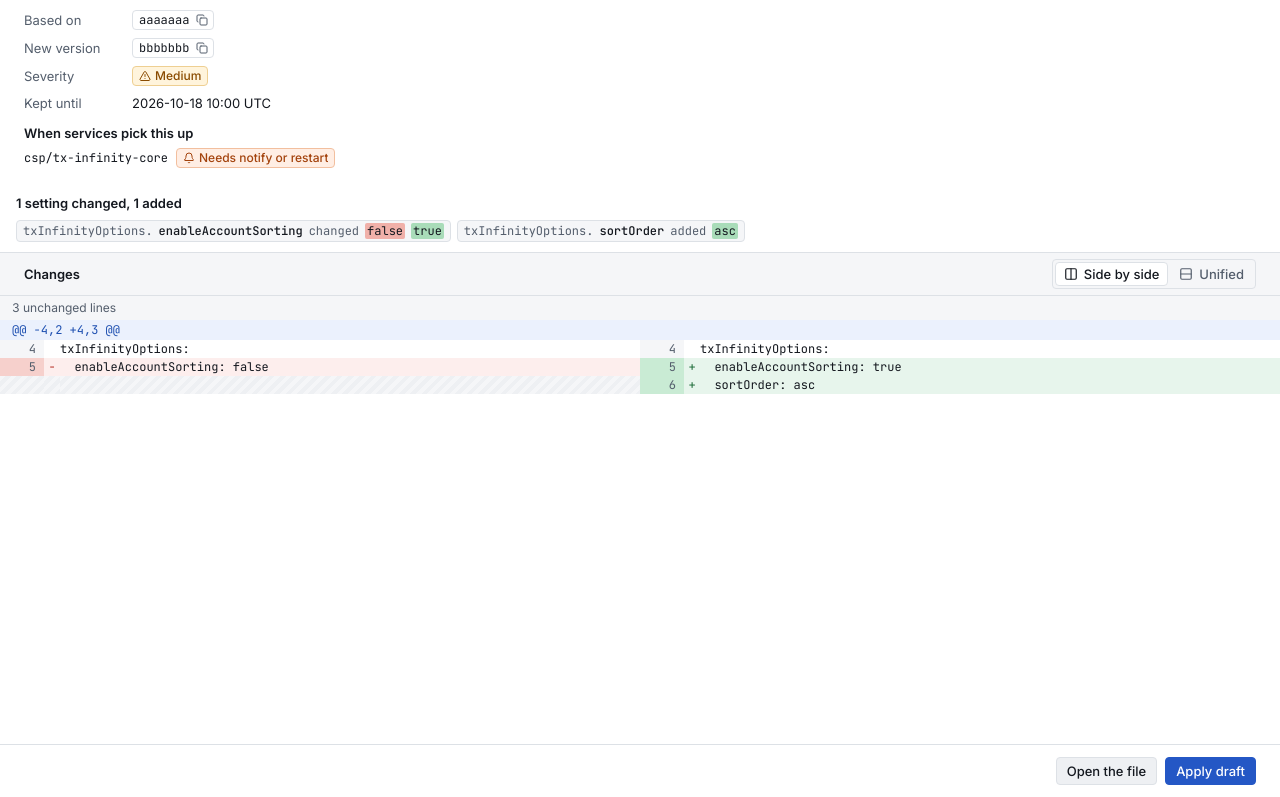
Test case: DraftPage: applying › asks first, with the consequence, and puts focus on Cancel
(page scrolled)
Click the button "Apply draft". click: click(1211, 771)
box: [1165, 757, 1256, 785]
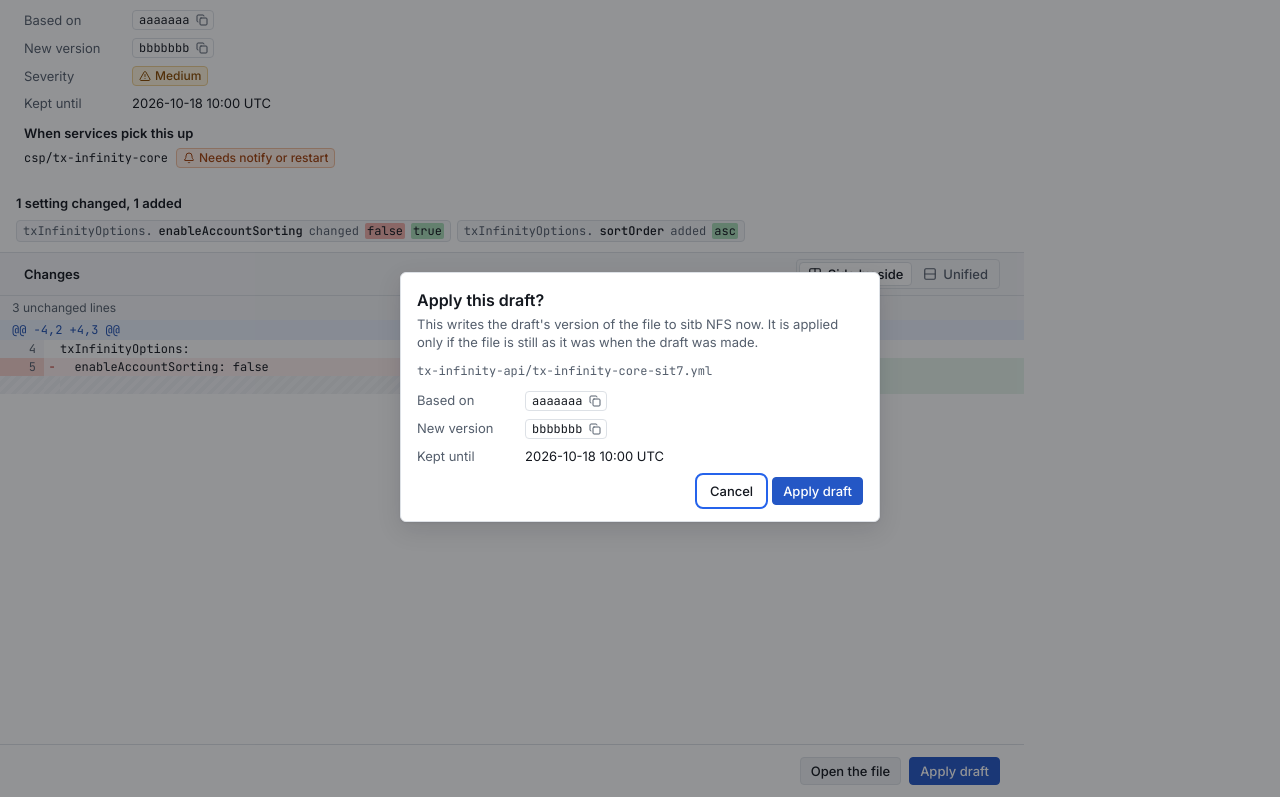
Expected: the text "only if the file is still as it was when the draft was made" is shown, [417, 316, 838, 350]
